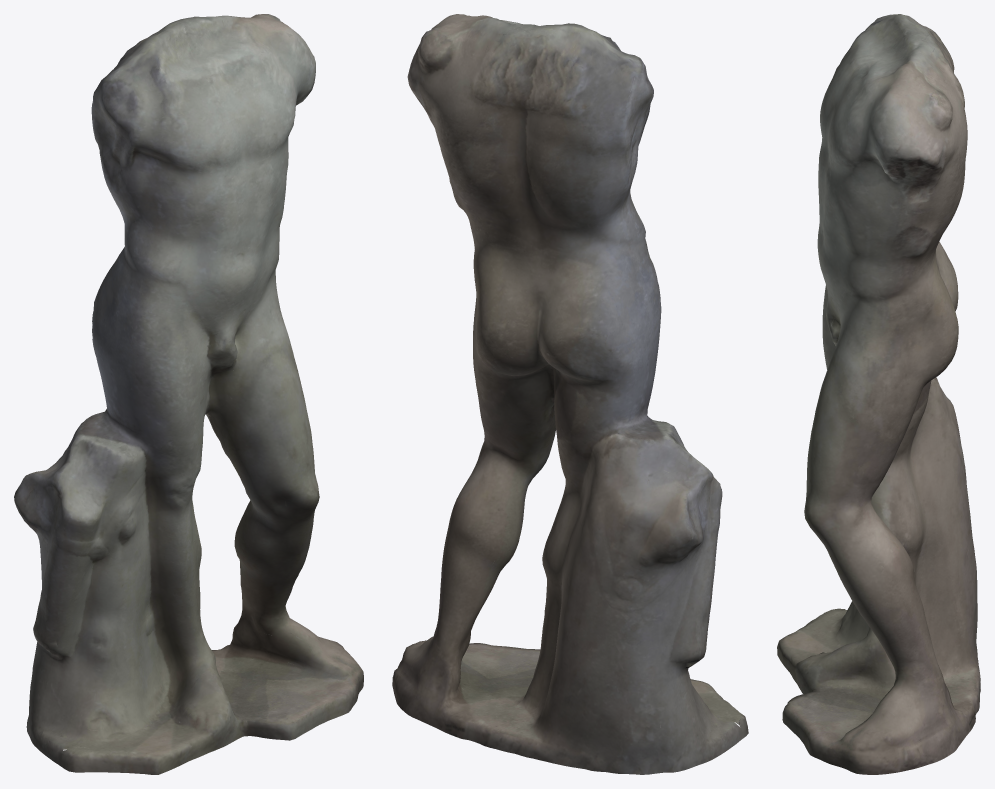
File: MDL_Statua_Apolo.glb
3 views of the same model, side by side, from view 1: azimuth 30°, elevation 25°; view 2: azimuth 150°, elevation 25°; view 3: azimuth 270°, elevation 25° (orthographic). The views are drawn at different scales.
Visible parts, largest first — view 1: MDL_Statua_Apolo; view 2: MDL_Statua_Apolo; view 3: MDL_Statua_Apolo.
Boxes of the visible parts, bbox=[...] form: MDL_Statua_Apolo: bbox=[14, 14, 363, 774]; MDL_Statua_Apolo: bbox=[392, 14, 748, 774]; MDL_Statua_Apolo: bbox=[777, 14, 980, 774].
Size of the model in its own units: 0.4782 by 0.9915 by 0.2724.
1 material, 1 textured.
